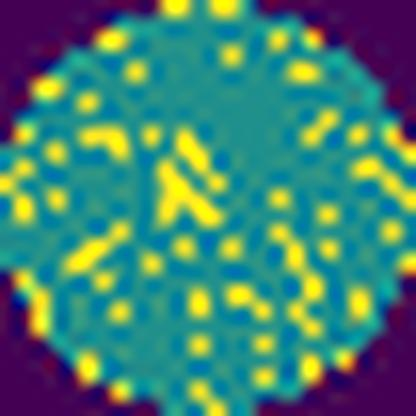Center: (150, 122, 228, 239)
